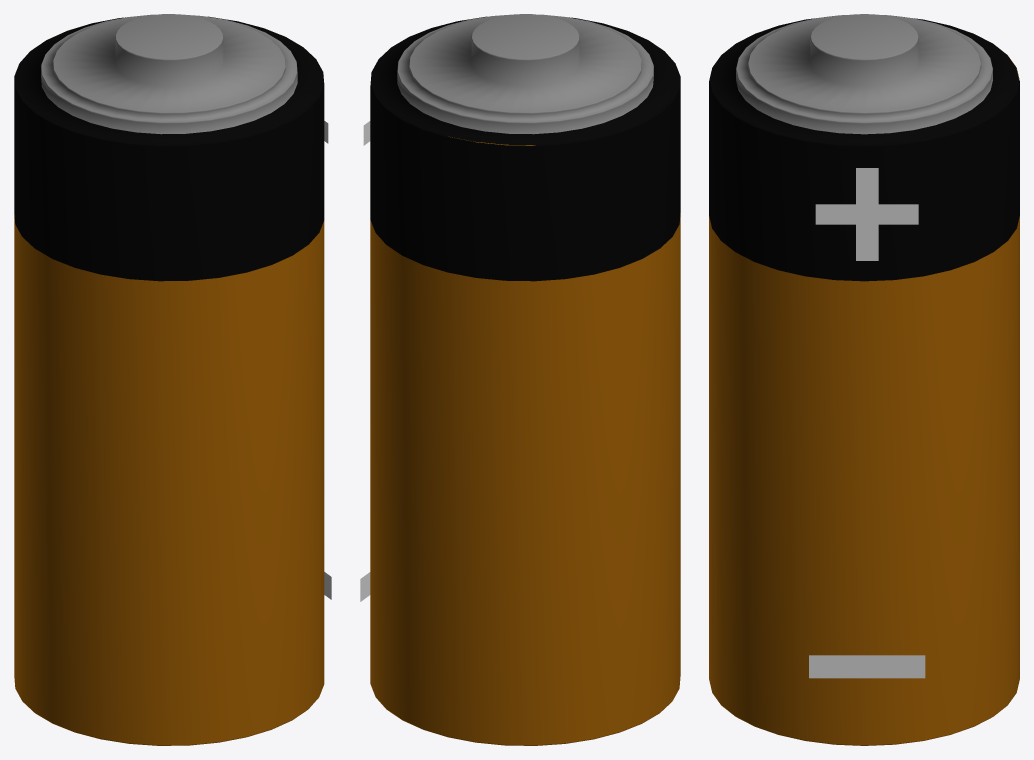
Rendered from Bateria.fbx.
3 renders of one model, left to right at view 1: azimuth 30°, elevation 25°; view 2: azimuth 150°, elevation 25°; view 3: azimuth 270°, elevation 25°, orthographic.
Parts seen in each view (by area): view 1: Cylinder; view 2: Cylinder; view 3: Cylinder.
Part boxes in pixels (x1,y1,x2,y2): Cylinder: [14, 14, 331, 745]; Cylinder: [360, 14, 680, 745]; Cylinder: [709, 14, 1019, 745].
Size of the model in its own units: 39.73 by 92.02 by 39.71.
